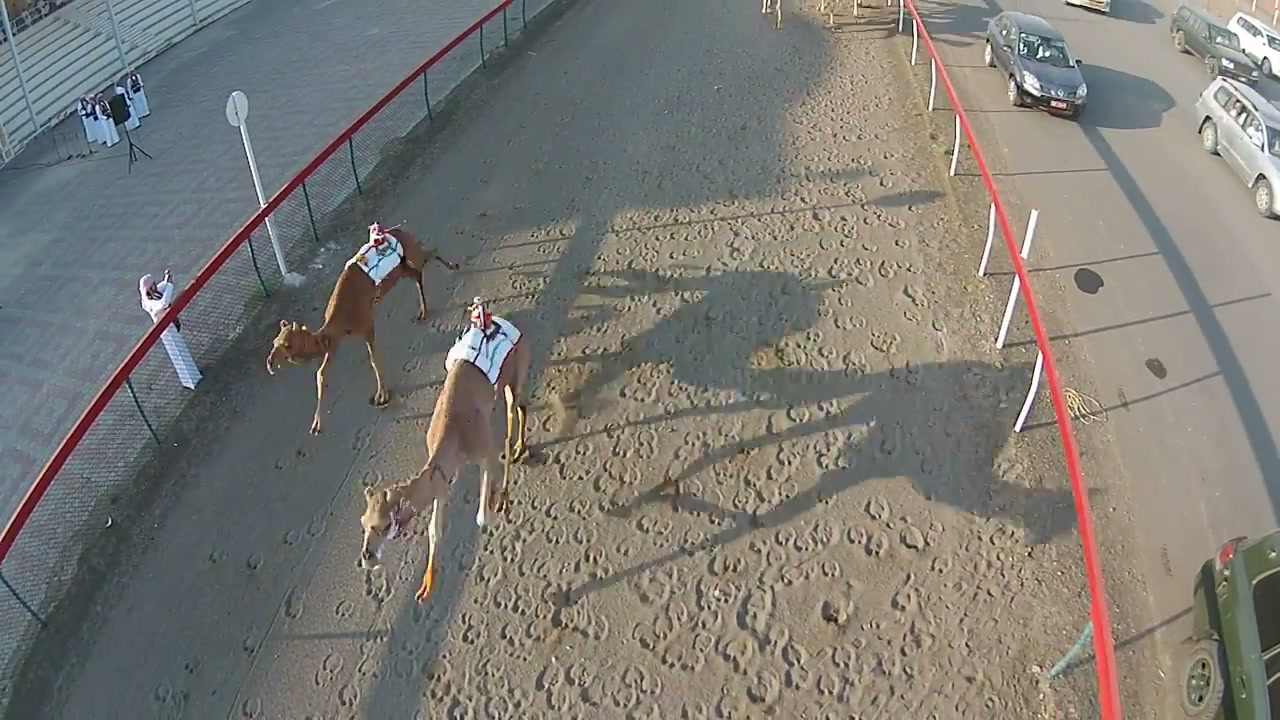animal_footprint: (318, 180, 771, 719), (166, 314, 418, 718), (753, 107, 891, 708)
